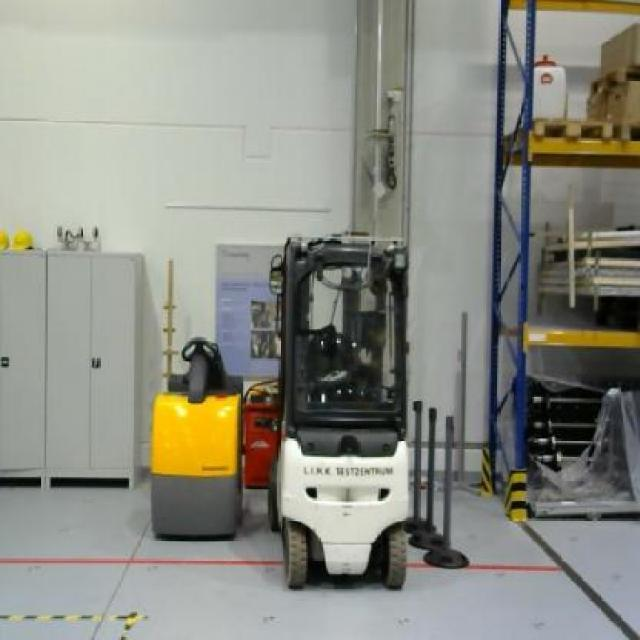box: (580, 76, 638, 124), (596, 20, 639, 82)
